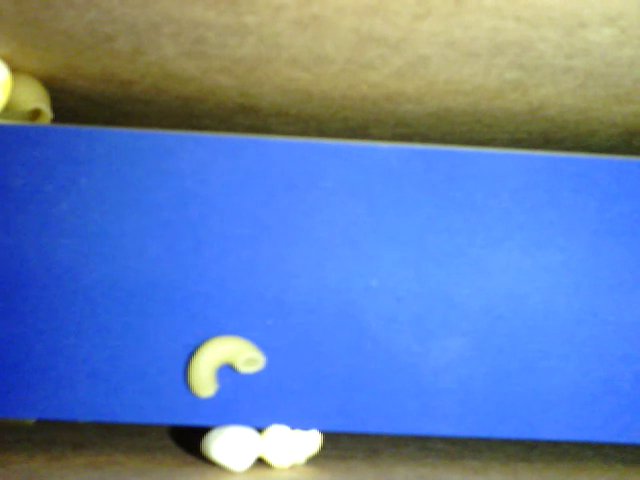elbow: (185, 334, 266, 400)
shell: (2, 72, 56, 130)
